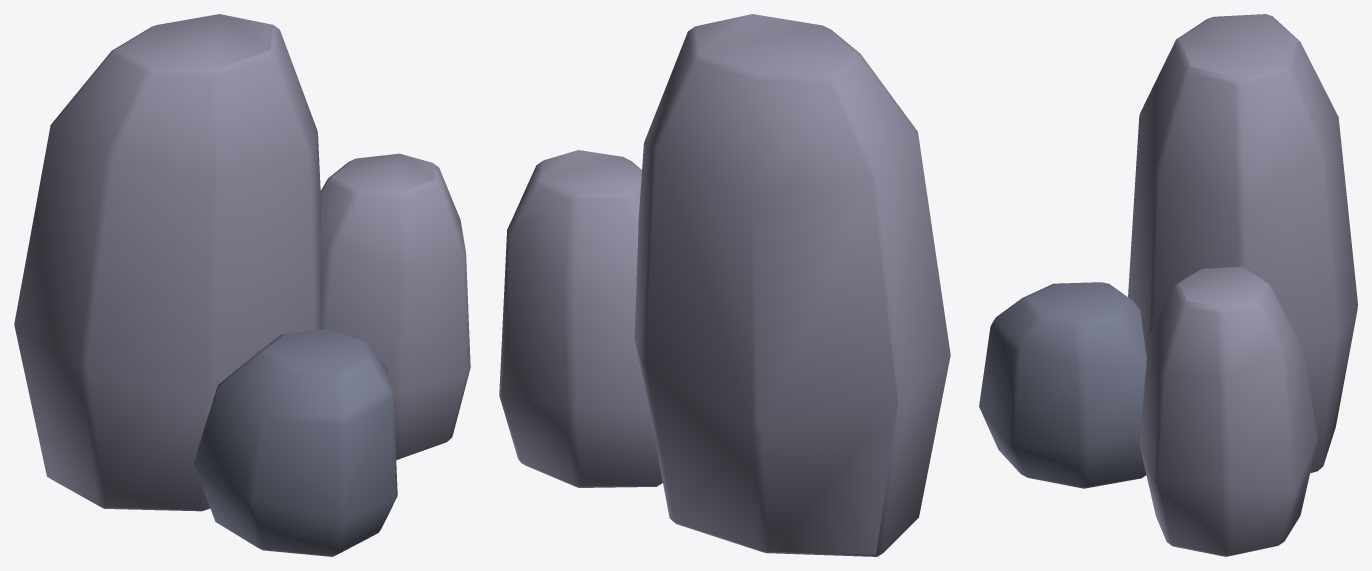
File: rock_cluster_medium_01.glb
The picture shows the model from 3 angles, left to right: view 1: azimuth 30°, elevation 25°; view 2: azimuth 150°, elevation 25°; view 3: azimuth 270°, elevation 25°; orthographic projection. The views are drawn at different scales.
Visible parts, largest first — view 1: rock_cluster_medium_01; view 2: rock_cluster_medium_01; view 3: rock_cluster_medium_01.
Boxes of the visible parts, <box> form: rock_cluster_medium_01: <box>14,14,470,556</box>; rock_cluster_medium_01: <box>499,14,950,556</box>; rock_cluster_medium_01: <box>979,14,1357,556</box>.
Size of the model in its own units: 1.02 by 1.02 by 0.864.
